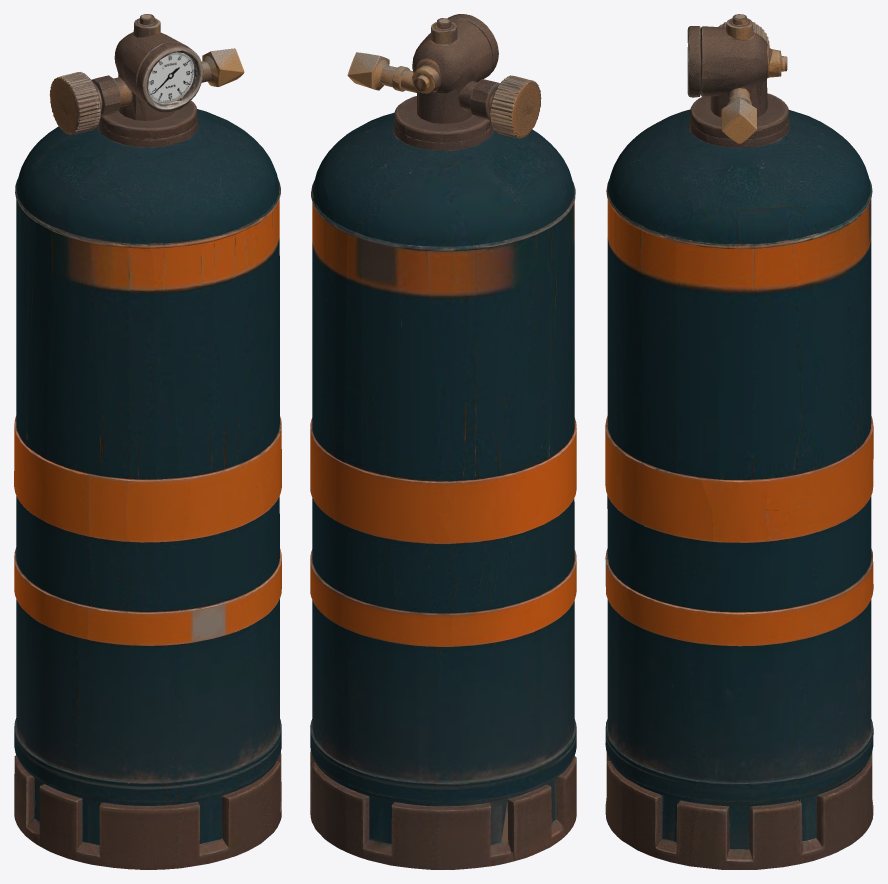
Rendered from oxygen-tank.glb.
The picture shows the model from 3 angles, left to right: view 1: azimuth 30°, elevation 25°; view 2: azimuth 150°, elevation 25°; view 3: azimuth 270°, elevation 25°; orthographic projection.
Parts seen in each view (by area): view 1: Mesh_0.004; view 2: Mesh_0.004; view 3: Mesh_0.004.
Boxes of the visible parts, x1=… form: Mesh_0.004: x1=14, y1=14, x2=281, y2=869; Mesh_0.004: x1=310, y1=14, x2=576, y2=869; Mesh_0.004: x1=605, y1=14, x2=873, y2=869.
Bounding box in the file's own units: 0.5801 × 1.9 × 0.5801.
1 material, 1 textured.
